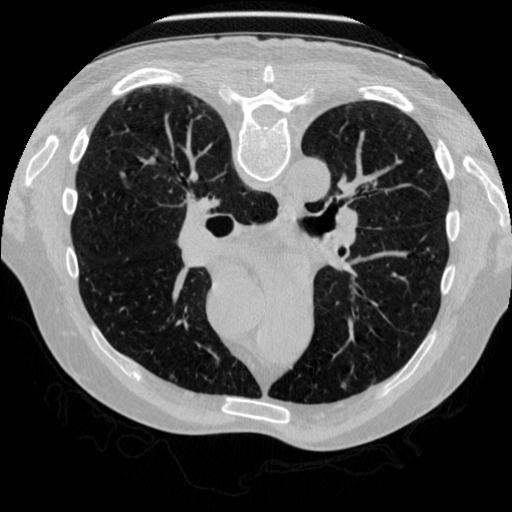nodule: (338, 383, 347, 392)
